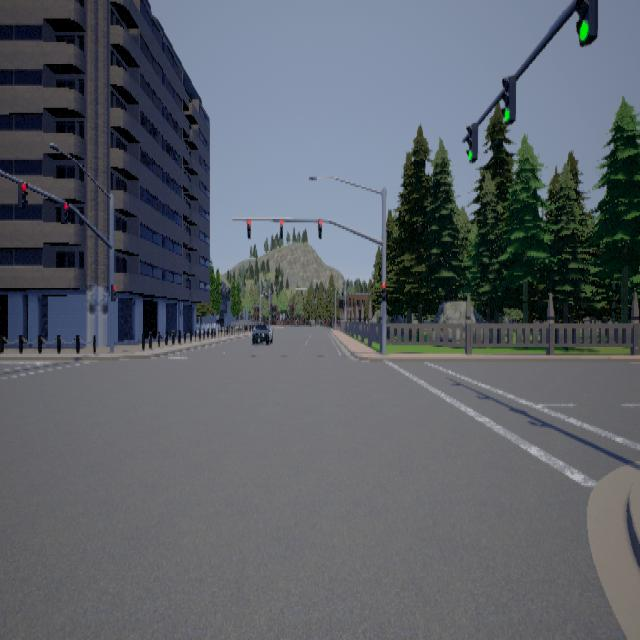green_light: (575, 0, 597, 45), (500, 74, 515, 123), (465, 121, 477, 162)
red_light: (17, 180, 27, 207), (60, 200, 68, 222), (110, 283, 116, 300), (318, 218, 322, 238), (381, 281, 385, 300), (247, 218, 250, 238), (280, 218, 282, 238)
vehicle: (250, 318, 272, 346)
